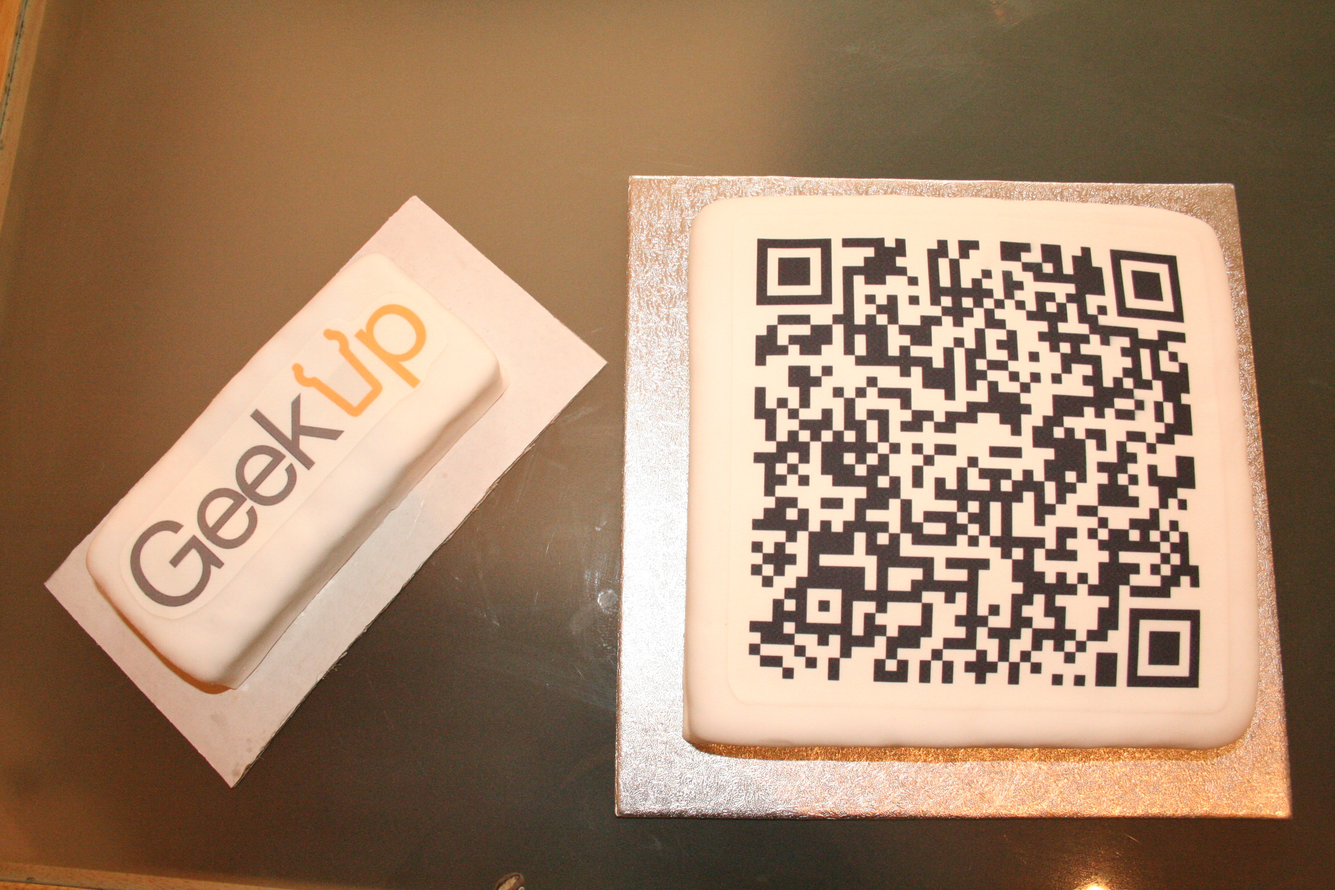QR-CODE: (747, 239, 1199, 687)
